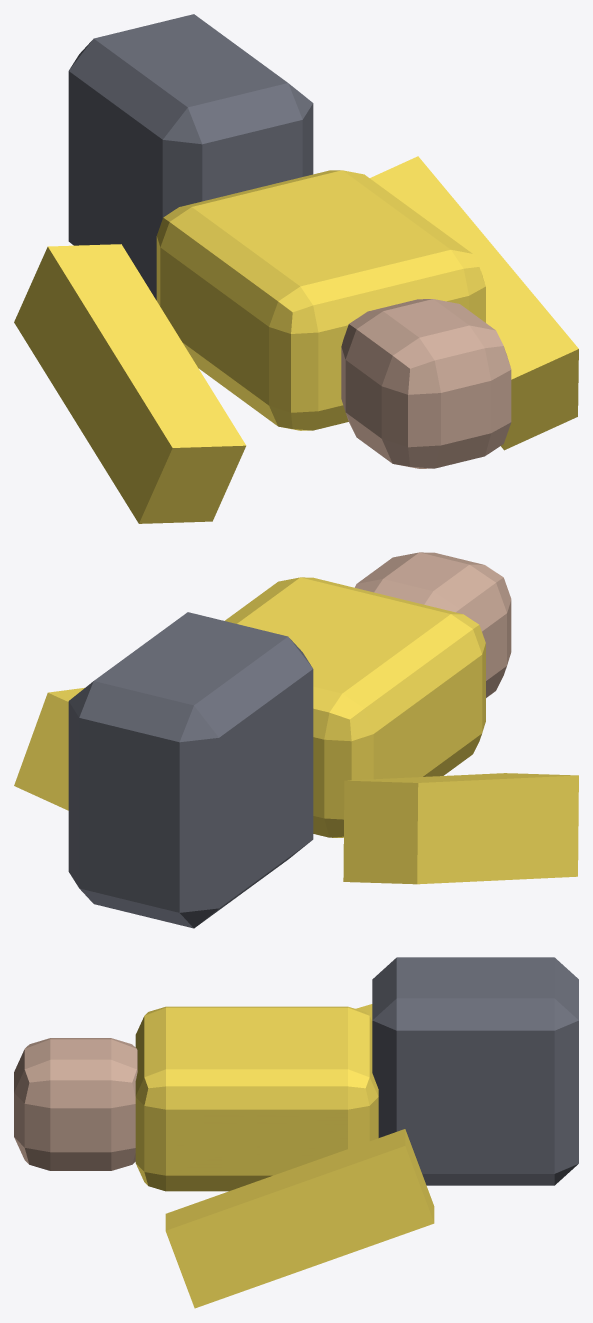
Rendered from spectator_2.glb.
3 renders of one model, top to bottom at view 1: azimuth 30°, elevation 25°; view 2: azimuth 150°, elevation 25°; view 3: azimuth 270°, elevation 25°, orthographic. The views are drawn at different scales.
Visible parts, largest first — view 1: spec2_torso, spec2_legs, spec2_arm_-1, spec2_head, spec2_arm_1; view 2: spec2_legs, spec2_torso, spec2_arm_-1, spec2_head, spec2_arm_1; view 3: spec2_legs, spec2_torso, spec2_arm_1, spec2_head.
Part boxes in pixels (x1,y1,x2,y2): spec2_torso: [156, 170, 485, 430]; spec2_legs: [68, 14, 313, 300]; spec2_arm_-1: [14, 244, 246, 523]; spec2_head: [341, 299, 511, 468]; spec2_arm_1: [370, 156, 578, 450]; spec2_legs: [68, 612, 313, 928]; spec2_torso: [225, 577, 485, 837]; spec2_arm_-1: [343, 773, 578, 884]; spec2_head: [355, 552, 511, 697]; spec2_arm_1: [14, 687, 84, 810]; spec2_legs: [372, 957, 578, 1185]; spec2_torso: [135, 1006, 378, 1191]; spec2_arm_1: [165, 1129, 434, 1308]; spec2_head: [14, 1038, 137, 1170].
Bounding box in the file's own units: 0.7002 × 0.4612 × 0.93.
